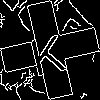K: (25, 25, 68, 77)
